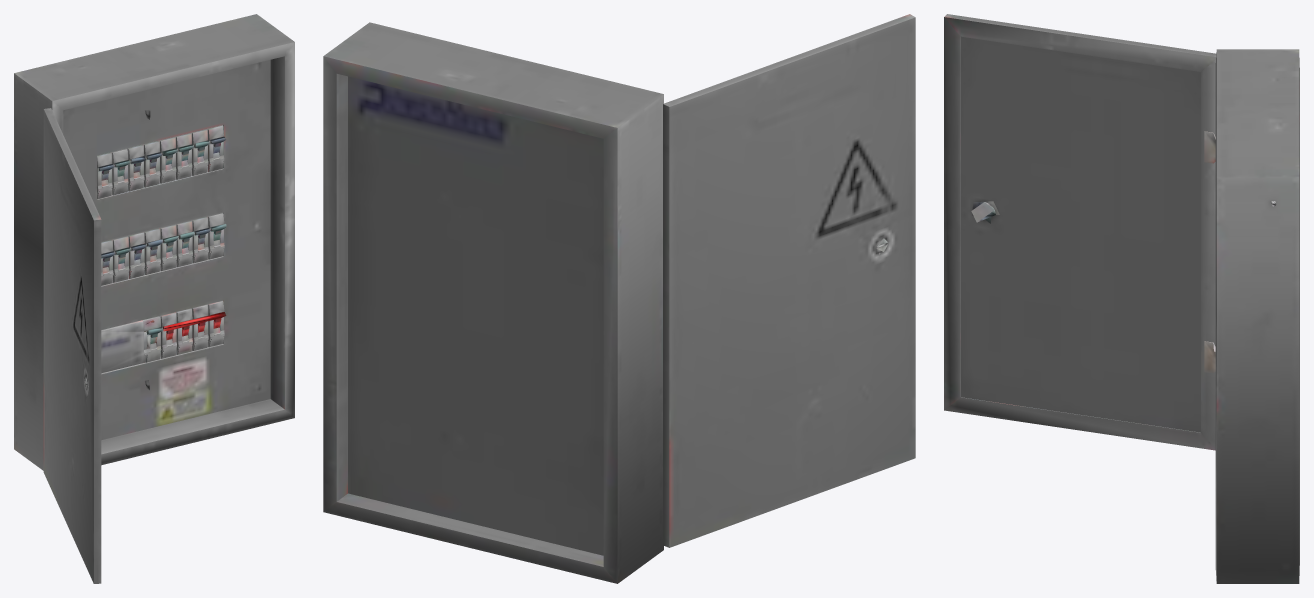
Rendered from powerBox_lo.glb.
3 renders of one model, left to right at view 1: azimuth 30°, elevation 25°; view 2: azimuth 150°, elevation 25°; view 3: azimuth 270°, elevation 25°, orthographic. The views are drawn at different scales.
Visible parts, largest first — view 1: power_box_01_box, power_box_01_door; view 2: power_box_01_box, power_box_01_door; view 3: power_box_01_door, power_box_01_box.
Part boxes in pixels (x1,y1,x2,y2): power_box_01_box: (14, 14, 294, 470); power_box_01_door: (43, 108, 101, 583); power_box_01_box: (323, 22, 663, 583); power_box_01_door: (663, 14, 915, 547); power_box_01_door: (944, 14, 1216, 450); power_box_01_box: (1215, 49, 1299, 583).
Bounding box in the file's own units: 0.4608 × 0.5031 × 0.399.
1 material, 1 textured.
